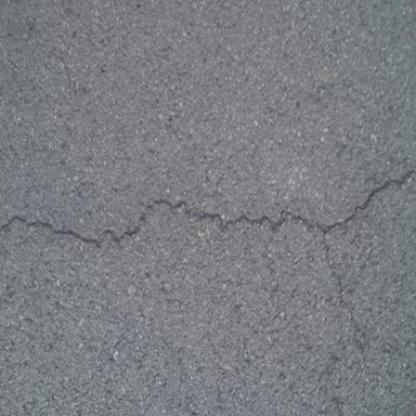SurfaceCrack: (12, 159, 415, 363)
